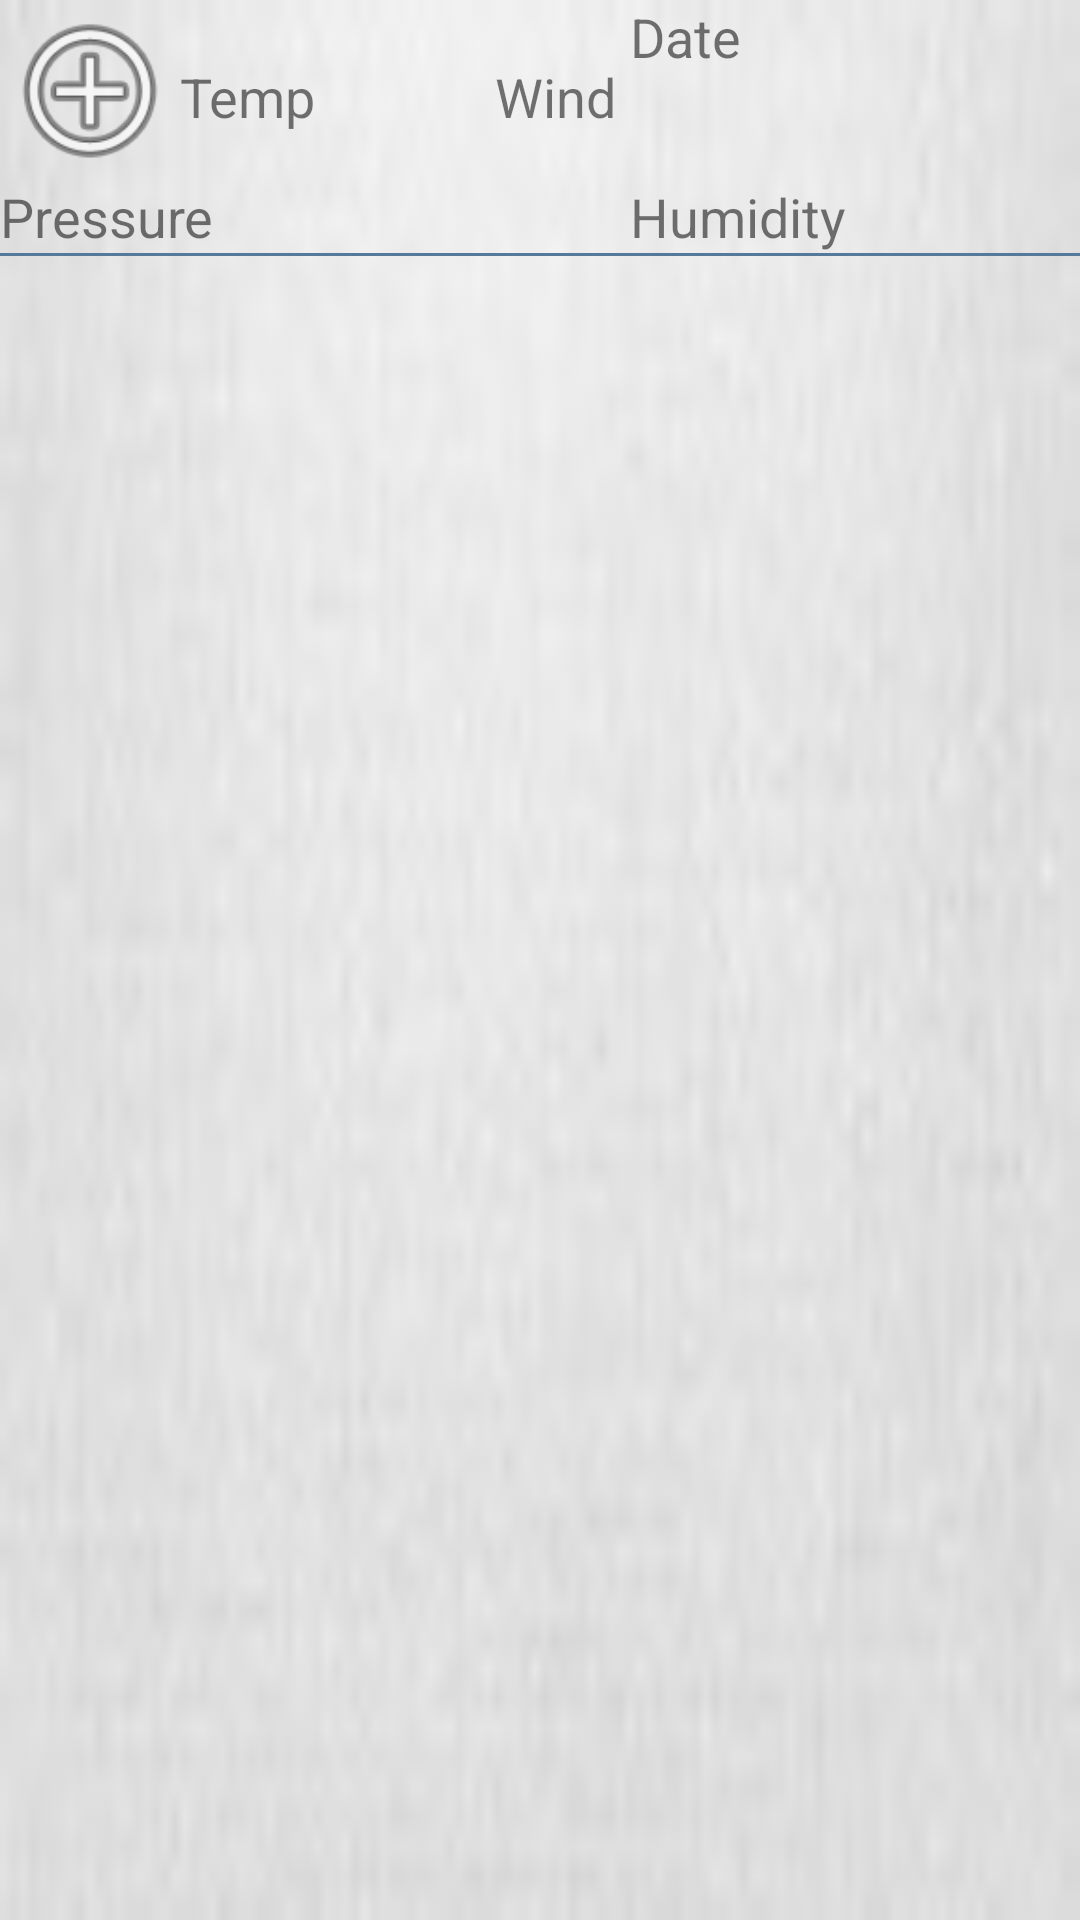

Icon click points for this 1080×1920 phone screenshot, format (x,y):
add: (90,91)
